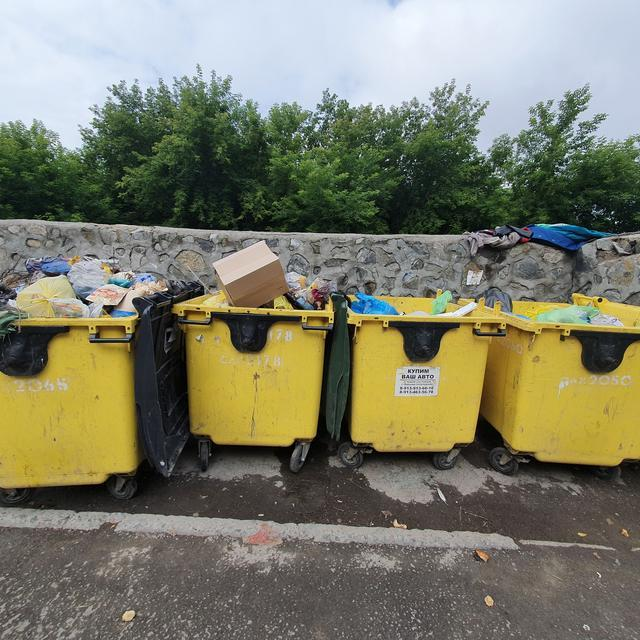Trash_Can_Full: (172, 238, 338, 448), (0, 254, 140, 489), (487, 290, 640, 466), (346, 288, 504, 453)
